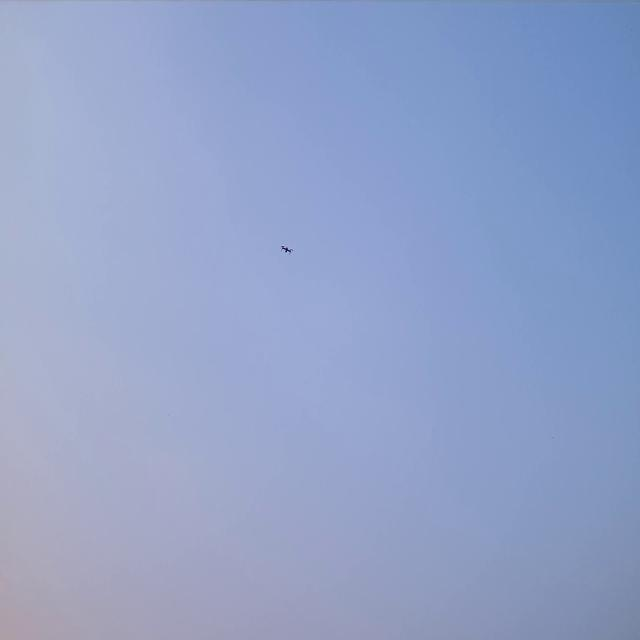UAV: (281, 244, 293, 257)
